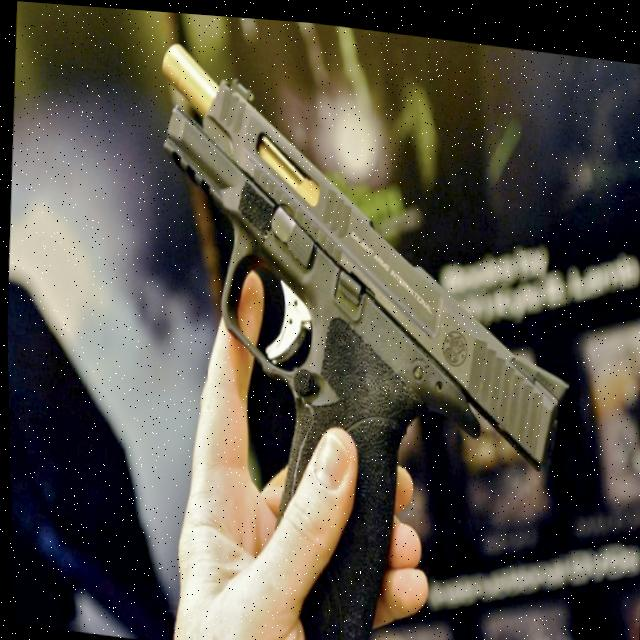pistol: (129, 35, 576, 640)
